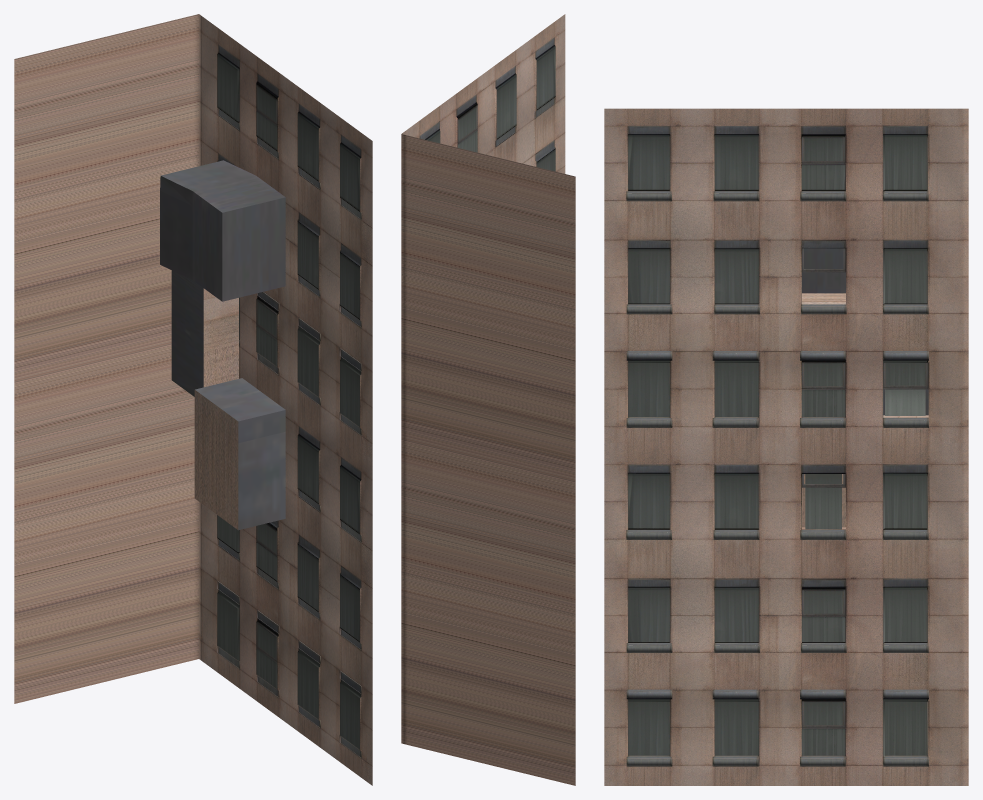
File: 00_03_outside_building_closeup.dae
The picture shows the model from 3 angles, left to right: view 1: azimuth 30°, elevation 25°; view 2: azimuth 150°, elevation 25°; view 3: azimuth 270°, elevation 25°; orthographic projection. The views are drawn at different scales.
Visible parts, largest first — view 1: Object002; view 2: Object002; view 3: Object002, Plane002, Object009-Pivot, Plane001.
Boxes of the visible parts, x1=… form: Object002: x1=14, y1=14, x2=372, y2=785; Object002: x1=401, y1=14, x2=575, y2=785; Object002: x1=604, y1=108, x2=968, y2=785; Plane002: x1=805, y1=474, x2=841, y2=529; Object009-Pivot: x1=883, y1=363, x2=928, y2=389; Plane001: x1=885, y1=389, x2=925, y2=415.
Size of the model in its own units: 7.08 by 22.86 by 11.14.
